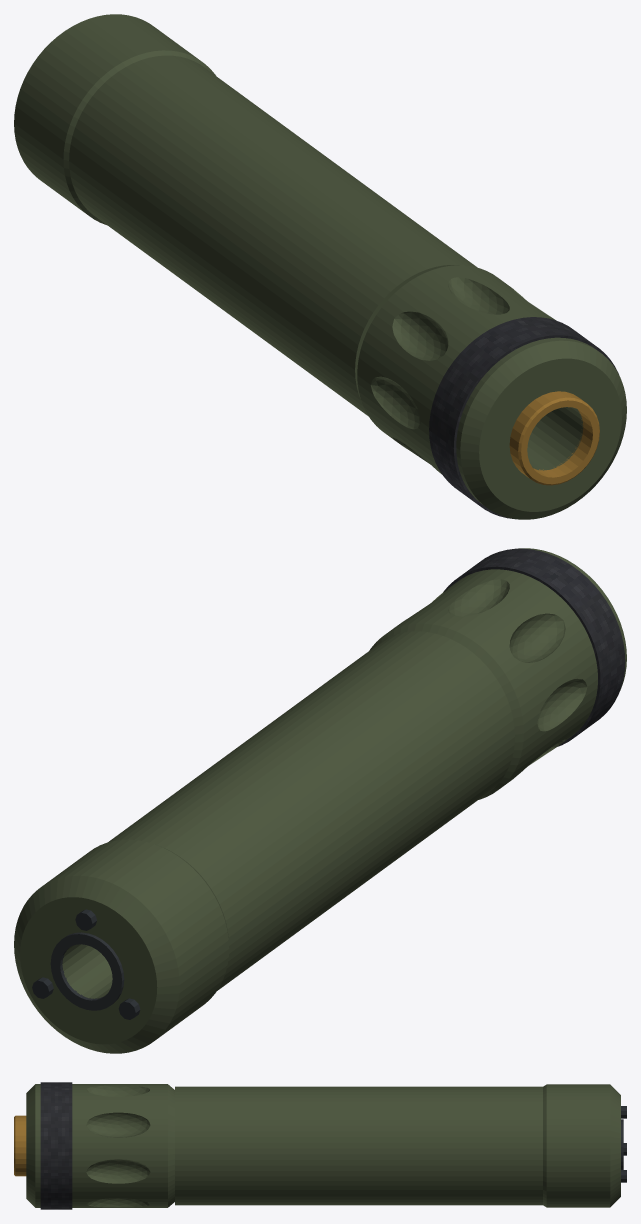
Rendered from supressor_9mm_verde.glb.
The picture shows the model from 3 angles, top to bottom: view 1: azimuth 30°, elevation 25°; view 2: azimuth 150°, elevation 25°; view 3: azimuth 270°, elevation 25°; orthographic projection. The views are drawn at different scales.
Visible parts, largest first — view 1: supressor_9mm_verde_cerakote_verde, supressor_9mm_verde_recartilhado, supressor_9mm_verde_latao; view 2: supressor_9mm_verde_cerakote_verde, supressor_9mm_verde_recartilhado, supressor_9mm_verde_aco_cano, supressor_9mm_verde_aco_oxidado; view 3: supressor_9mm_verde_cerakote_verde, supressor_9mm_verde_recartilhado, supressor_9mm_verde_latao, supressor_9mm_verde_aco_oxidado.
Boxes of the visible parts, box(x1,y1,x2,y2) form: supressor_9mm_verde_cerakote_verde: box(14, 14, 626, 519); supressor_9mm_verde_recartilhado: box(429, 317, 618, 519); supressor_9mm_verde_latao: box(509, 391, 599, 485); supressor_9mm_verde_cerakote_verde: box(14, 548, 626, 1053); supressor_9mm_verde_recartilhado: box(443, 548, 625, 746); supressor_9mm_verde_aco_cano: box(50, 932, 124, 1010); supressor_9mm_verde_aco_oxidado: box(32, 909, 140, 1019); supressor_9mm_verde_cerakote_verde: box(26, 1084, 620, 1207); supressor_9mm_verde_recartilhado: box(40, 1082, 72, 1209); supressor_9mm_verde_latao: box(14, 1115, 26, 1176); supressor_9mm_verde_aco_oxidado: box(621, 1106, 626, 1182).
Bounding box in the file's own units: 0.036 × 0.036 × 0.1732.
Materials: 5 (1 with a texture image).
